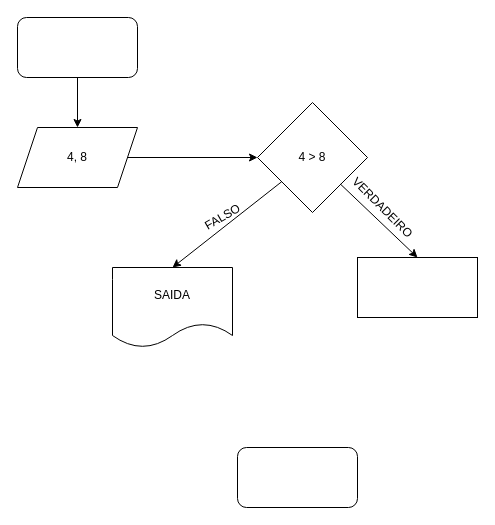
This 495x525 diagram has some shape labels left out. Here are the shapes that lost their labels. From the top down, the box of each, then its label:
(16, 16, 138, 78): INICIO
(236, 446, 358, 508): FIM
